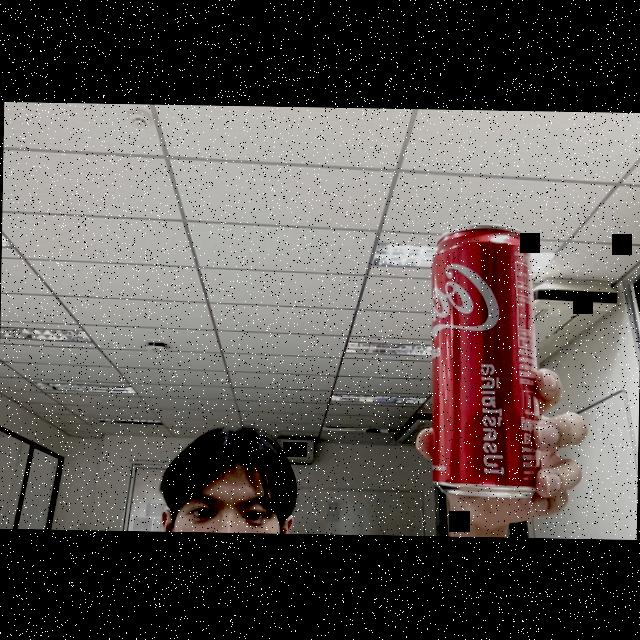can: (424, 218, 550, 502)
